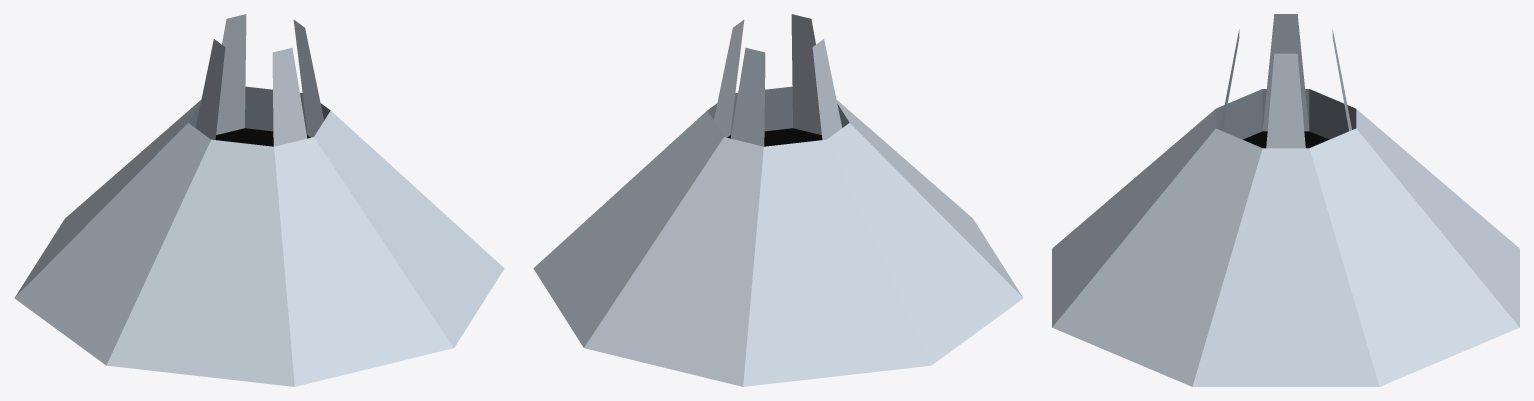
File: down_body.FBX
3 views of the same model, side by side, from view 1: azimuth 30°, elevation 25°; view 2: azimuth 150°, elevation 25°; view 3: azimuth 270°, elevation 25° (orthographic).
Visible parts, largest first — view 1: VIFS002, VIFS001, VIFS003; view 2: VIFS002, VIFS001, VIFS003; view 3: VIFS002, VIFS001, VIFS003.
Boxes of the visible parts, x1,y1,x2,y2 form: VIFS002: (14, 14, 504, 386); VIFS001: (188, 86, 330, 135); VIFS003: (215, 128, 310, 146); VIFS002: (533, 14, 1023, 386); VIFS001: (707, 86, 849, 135); VIFS003: (727, 128, 822, 146); VIFS002: (1052, 14, 1519, 386); VIFS001: (1215, 89, 1356, 139); VIFS003: (1243, 131, 1328, 148).
Bounding box in the file's own units: 1.67 × 1 × 1.67.
